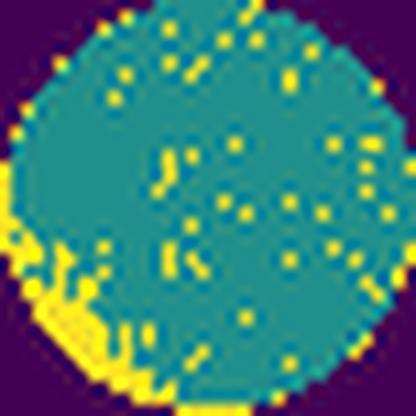Edge-Loc: (0, 156, 259, 416)
